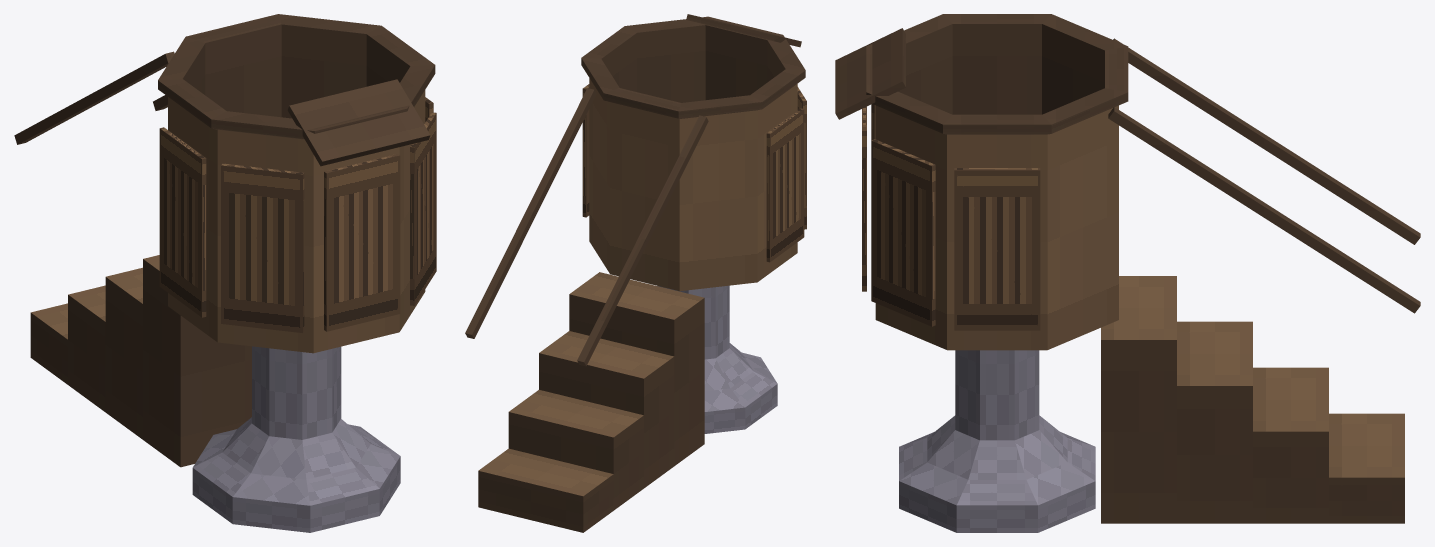
File: pulpit.glb
The picture shows the model from 3 angles, left to right: view 1: azimuth 30°, elevation 25°; view 2: azimuth 150°, elevation 25°; view 3: azimuth 270°, elevation 25°; orthographic projection. The views are drawn at different scales.
Visible parts, largest first — view 1: pulpit.001; view 2: pulpit.001; view 3: pulpit.001.
Part boxes in pixels (<box>): pulpit.001: <box>14,14,436,532</box>; pulpit.001: <box>465,14,806,532</box>; pulpit.001: <box>835,14,1420,532</box>.
Bounding box in the file's own units: 1.07 × 1.9 × 2.31.
Materials: 1 (1 with a texture image).
